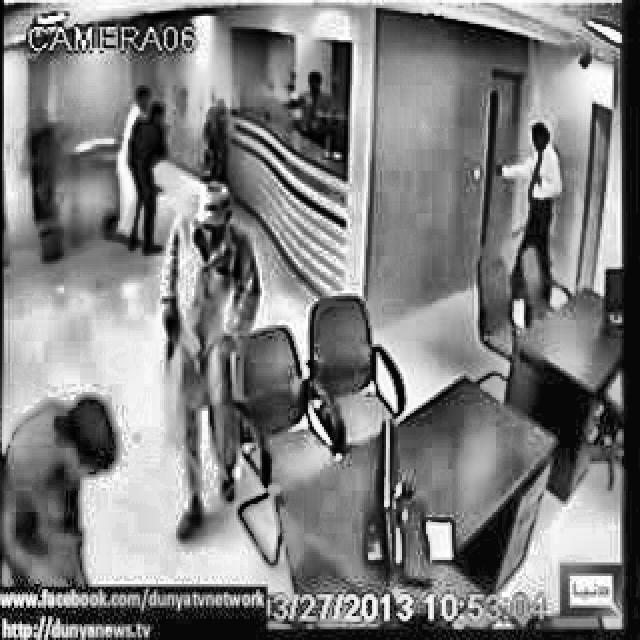robbery: (154, 182, 265, 542)
